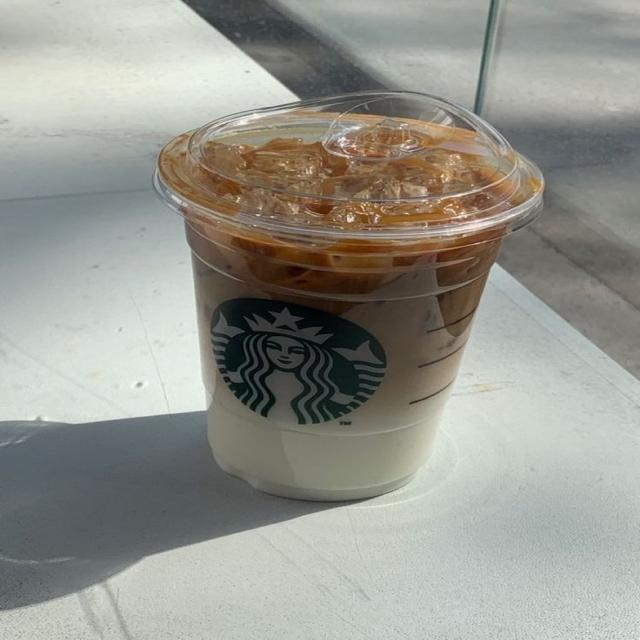plastic cup: (155, 90, 544, 504)
